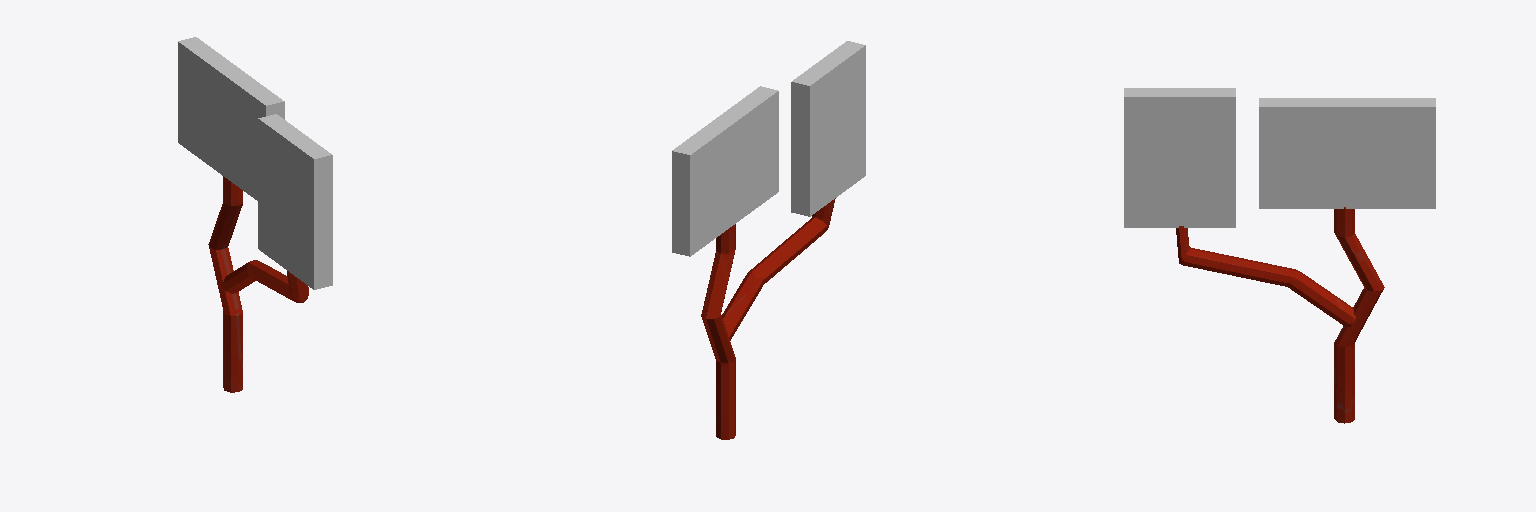
3 views of the same model, side by side, from view 1: azimuth 30°, elevation 25°; view 2: azimuth 150°, elevation 25°; view 3: azimuth 270°, elevation 25° (orthographic).
Parts seen in each view (by area): view 1: Plane.002_Plane.003, Plane.001_Plane.002, Cylinder.001_Cylinder.002, Cylinder.002_Cylinder.003; view 2: Plane.001_Plane.002, Plane.002_Plane.003, Cylinder.001_Cylinder.002, Cylinder.002_Cylinder.003; view 3: Plane.001_Plane.002, Plane.002_Plane.003, Cylinder.001_Cylinder.002, Cylinder.002_Cylinder.003.
Part boxes in pixels (x1,y1,x2,y2): Plane.002_Plane.003: (258, 114, 332, 289); Plane.001_Plane.002: (178, 37, 284, 200); Cylinder.001_Cylinder.002: (208, 176, 242, 392); Cylinder.002_Cylinder.003: (222, 260, 308, 302); Plane.001_Plane.002: (672, 86, 778, 256); Plane.002_Plane.003: (791, 41, 865, 216); Cylinder.001_Cylinder.002: (701, 224, 735, 439); Cylinder.002_Cylinder.003: (722, 198, 835, 340); Plane.001_Plane.002: (1259, 98, 1435, 208); Plane.002_Plane.003: (1124, 88, 1235, 227); Cylinder.001_Cylinder.002: (1334, 207, 1384, 423); Cylinder.002_Cylinder.003: (1176, 226, 1355, 327).
Size of the model in its own units: 0.4462 by 3.4 by 3.04.
Materials: 3 (1 with a texture image).